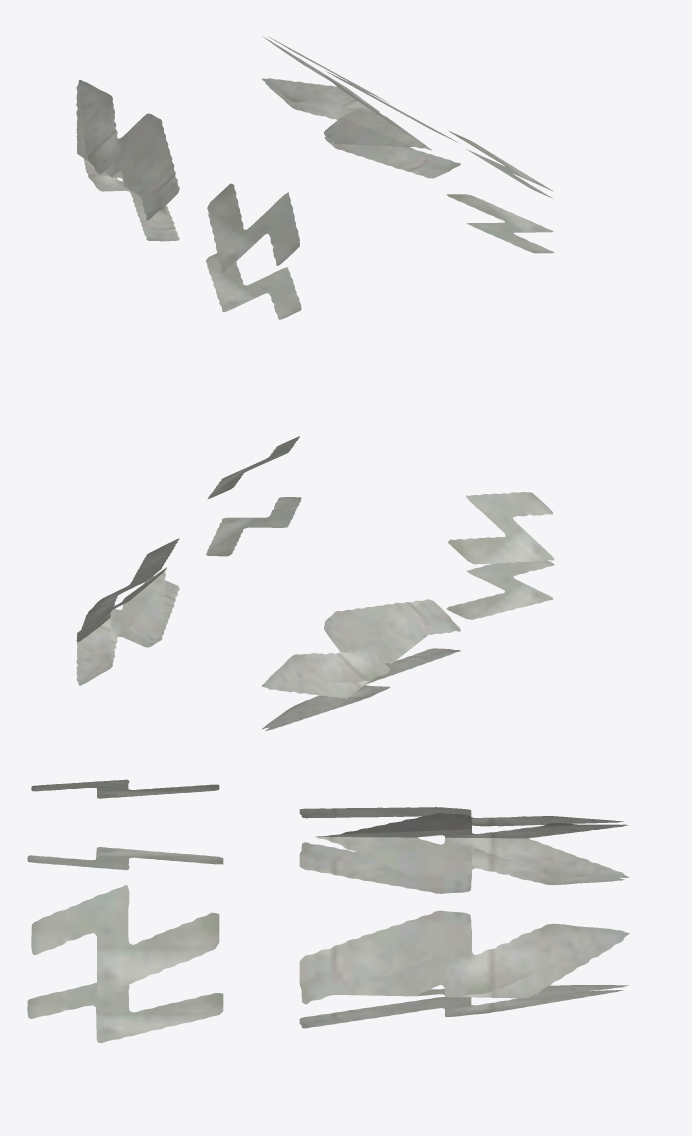
The model's file is black_sun_fighter_heavy_struct_s01_l3.fbx.
3 renders of one model, top to bottom at view 1: azimuth 30°, elevation 25°; view 2: azimuth 150°, elevation 25°; view 3: azimuth 270°, elevation 25°, orthographic. The views are drawn at different scales.
Visible parts, largest first — view 1: mesh_node; view 2: mesh_node; view 3: mesh_node.
Part boxes in pixels (left/top/right/bottom): mesh_node: left=76, top=36, right=554, bottom=319; mesh_node: left=76, top=436, right=554, bottom=730; mesh_node: left=27, top=779, right=629, bottom=1043.
Bounding box in the file's own units: 14.51 × 3.5 × 13.49.
